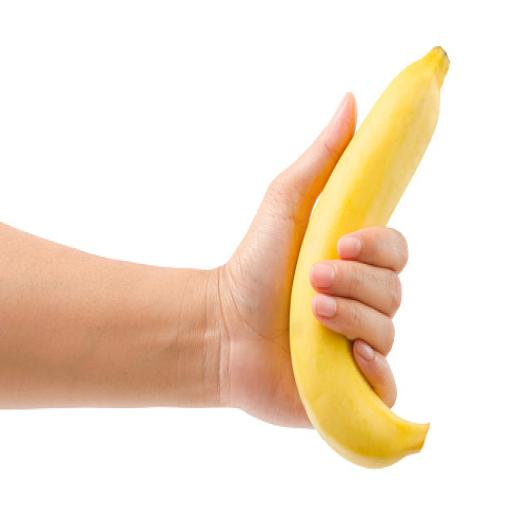banana: (290, 48, 448, 467)
